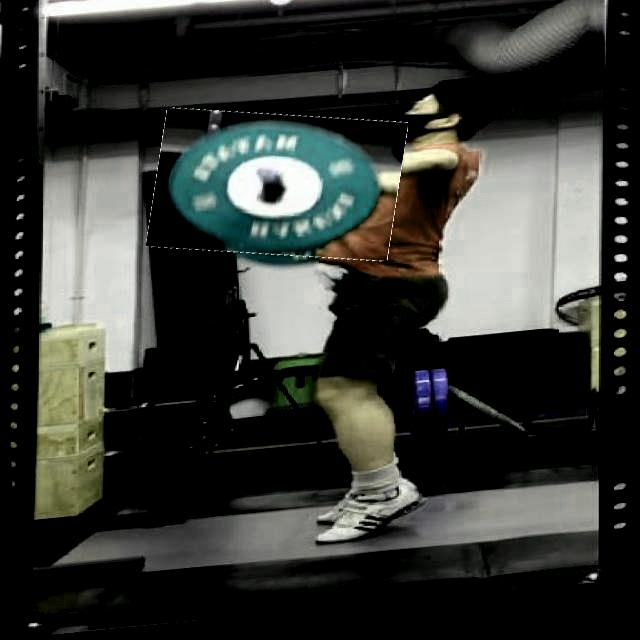barbell: (151, 103, 405, 278)
